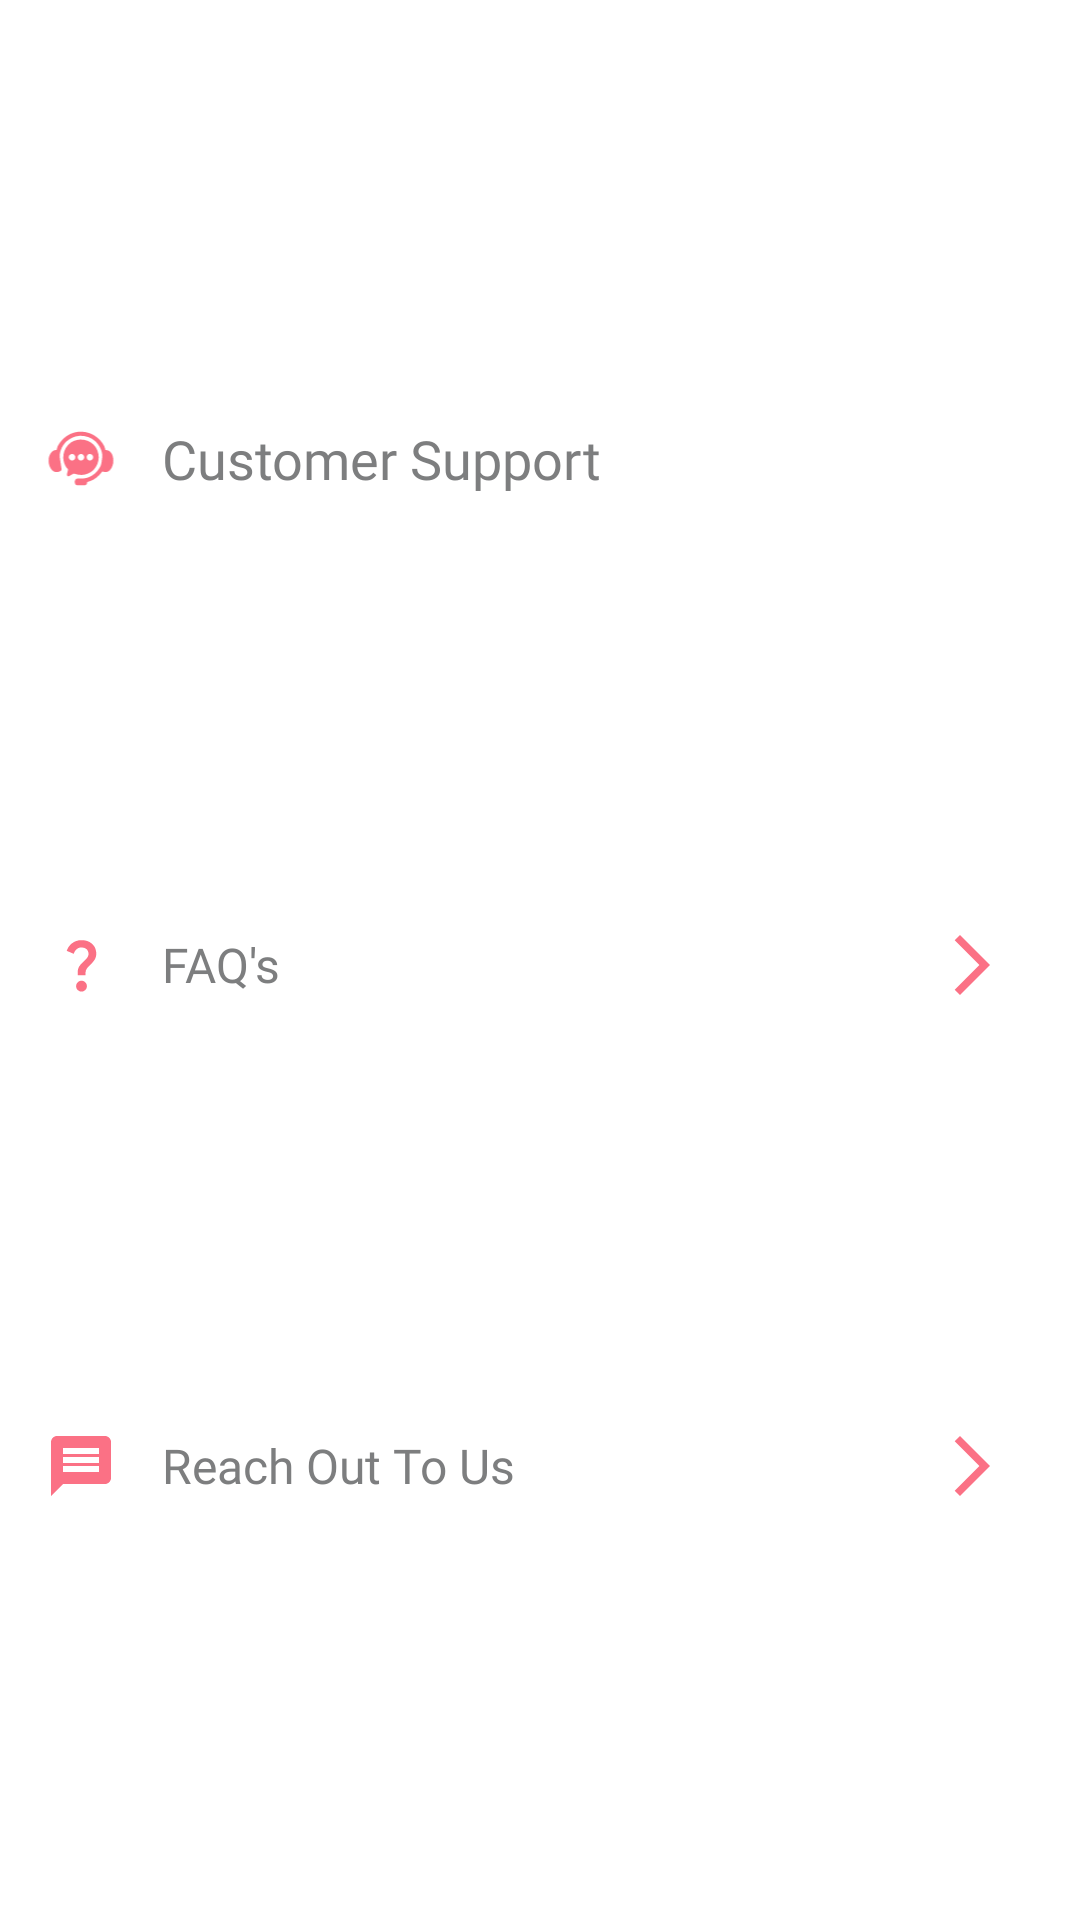

Where to tap for icons on this 1080×1920 app screen, as (x=x, y=y):
next: (x=972, y=965), (x=972, y=1466)
